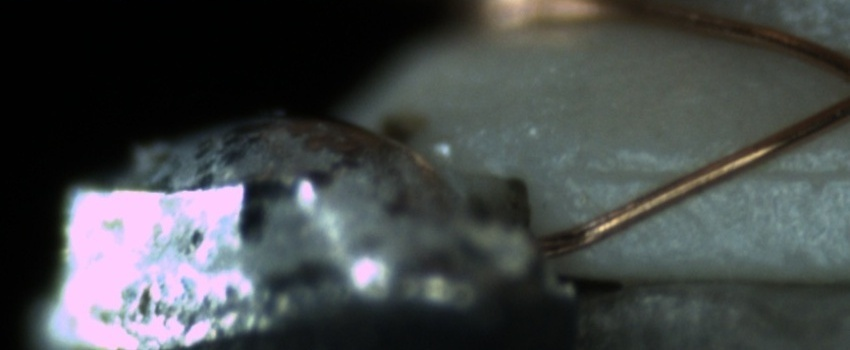CL: (834, 52, 850, 116)
DL: (576, 138, 844, 204)
